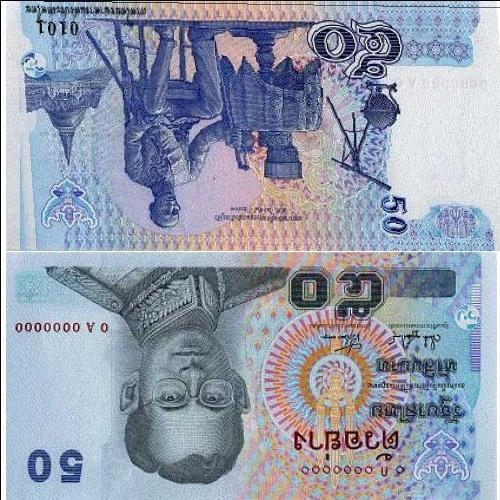50BahtTai: (10, 0, 500, 251)
